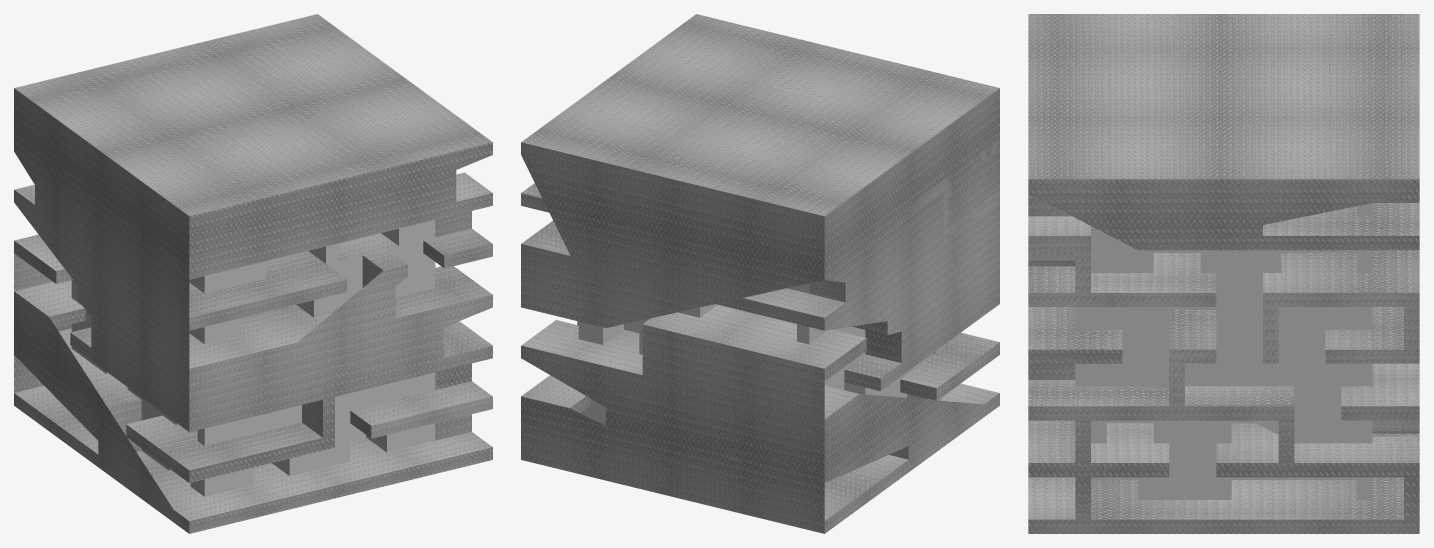
Rendered from Оверайн2.0.fbx.
3 views of the same model, side by side, from view 1: azimuth 30°, elevation 25°; view 2: azimuth 150°, elevation 25°; view 3: azimuth 270°, elevation 25° (orthographic). The views are drawn at different scales.
Visible parts, largest first — view 1: Оверайн, Оверайн.001; view 2: Оверайн, Оверайн.001; view 3: Оверайн, Оверайн.001.
Boxes of the visible parts, bbox=[...] form: Оверайн: bbox=[14, 14, 492, 533]; Оверайн.001: bbox=[71, 220, 435, 496]; Оверайн: bbox=[521, 14, 999, 533]; Оверайн.001: bbox=[578, 283, 942, 485]; Оверайн: bbox=[1028, 14, 1419, 533]; Оверайн.001: bbox=[1075, 203, 1372, 499].
Size of the model in its own units: 250 by 250 by 250.
